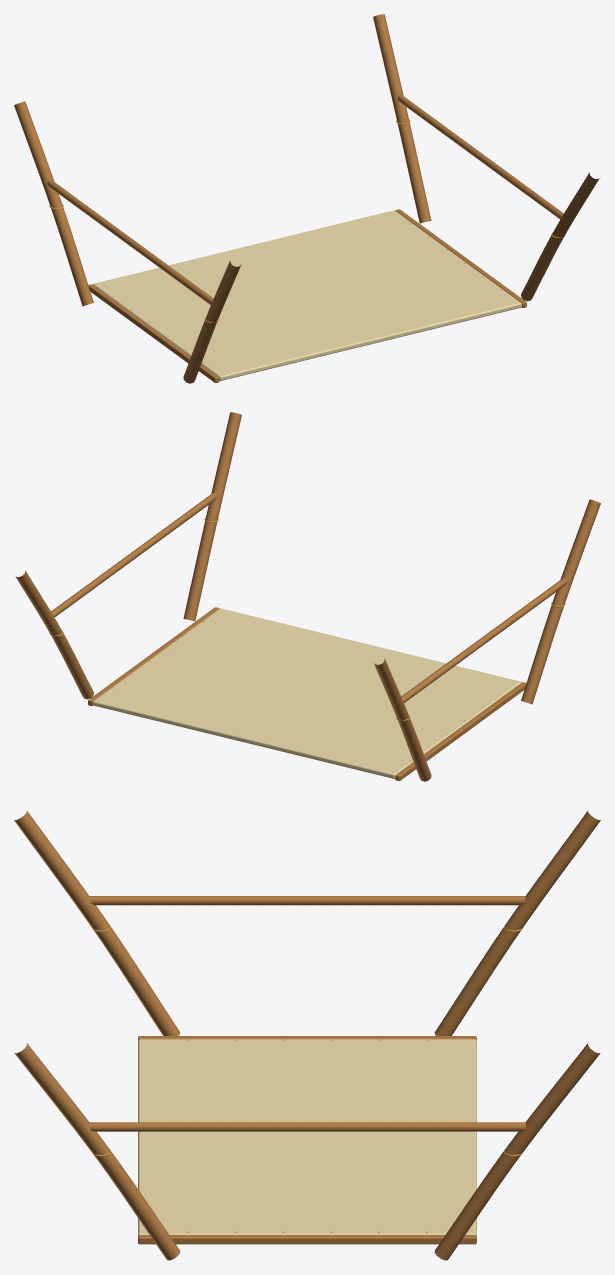
Rendered from chair-seat-stable.glb.
3 views of the same model, one above another, from view 1: azimuth 30°, elevation 25°; view 2: azimuth 150°, elevation 25°; view 3: azimuth 270°, elevation 25° (orthographic). The views are drawn at different scales.
Parts seen in each view (by area): view 1: cloth, wood; view 2: cloth, wood; view 3: cloth, wood.
Part boxes in pixels (x1,y1,x2,y2): cloth: (93, 210, 521, 380); wood: (14, 14, 599, 383); cloth: (93, 608, 521, 778); wood: (15, 412, 600, 781); cloth: (138, 1039, 476, 1236); wood: (14, 811, 600, 1260).
Size of the model in its own units: 11.84 by 5.13 by 12.27.
